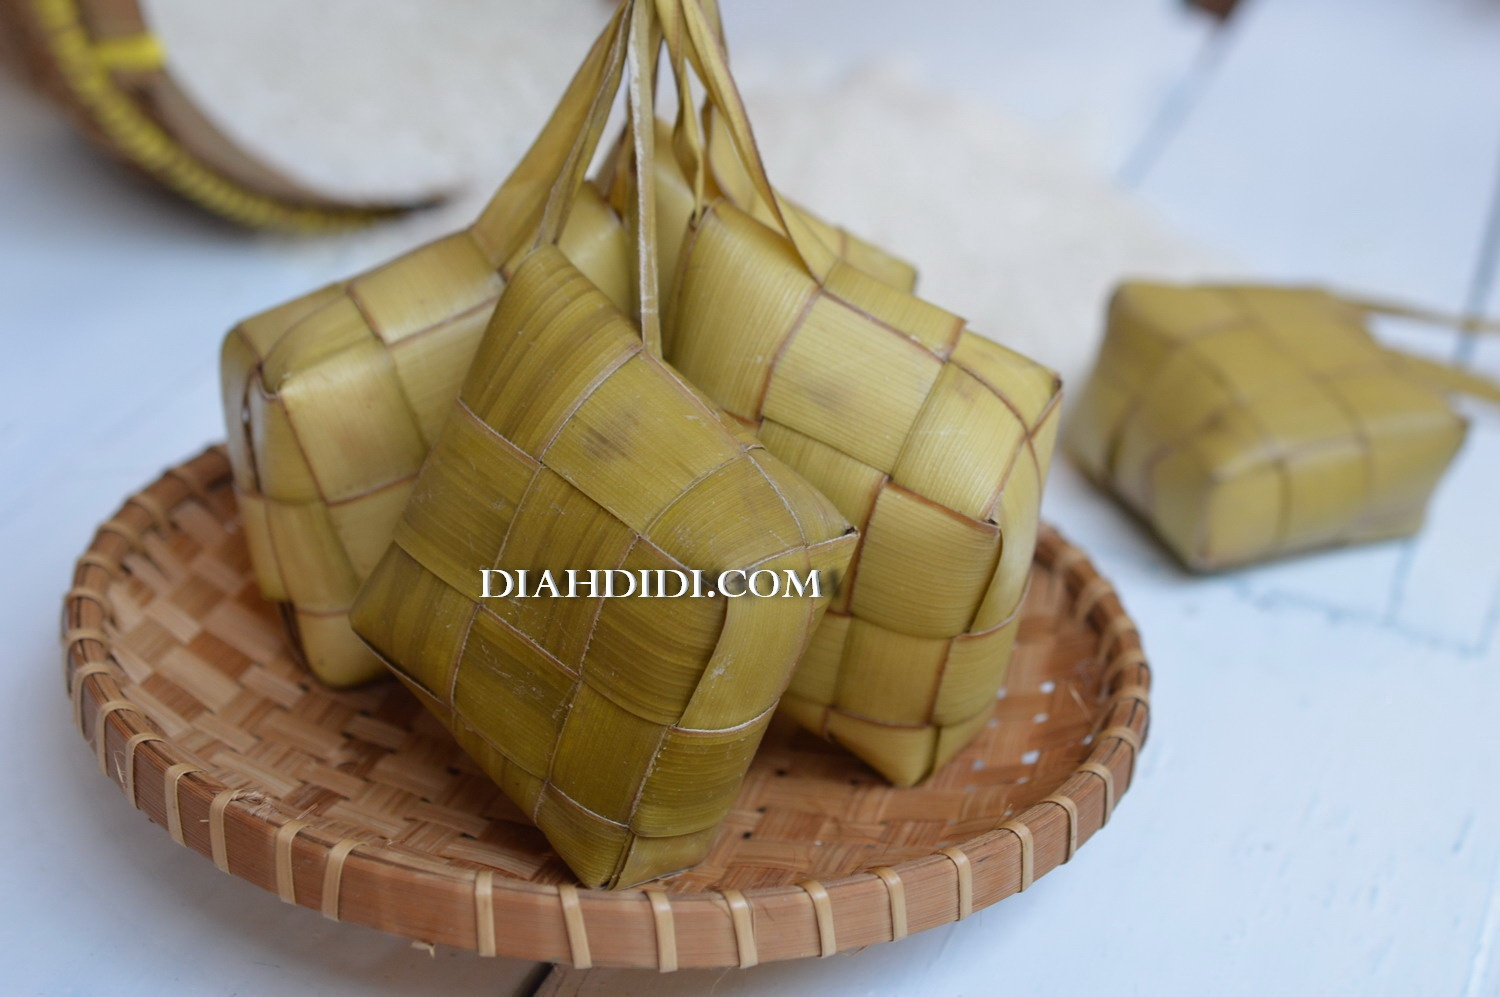ketupat: (354, 251, 856, 889)
